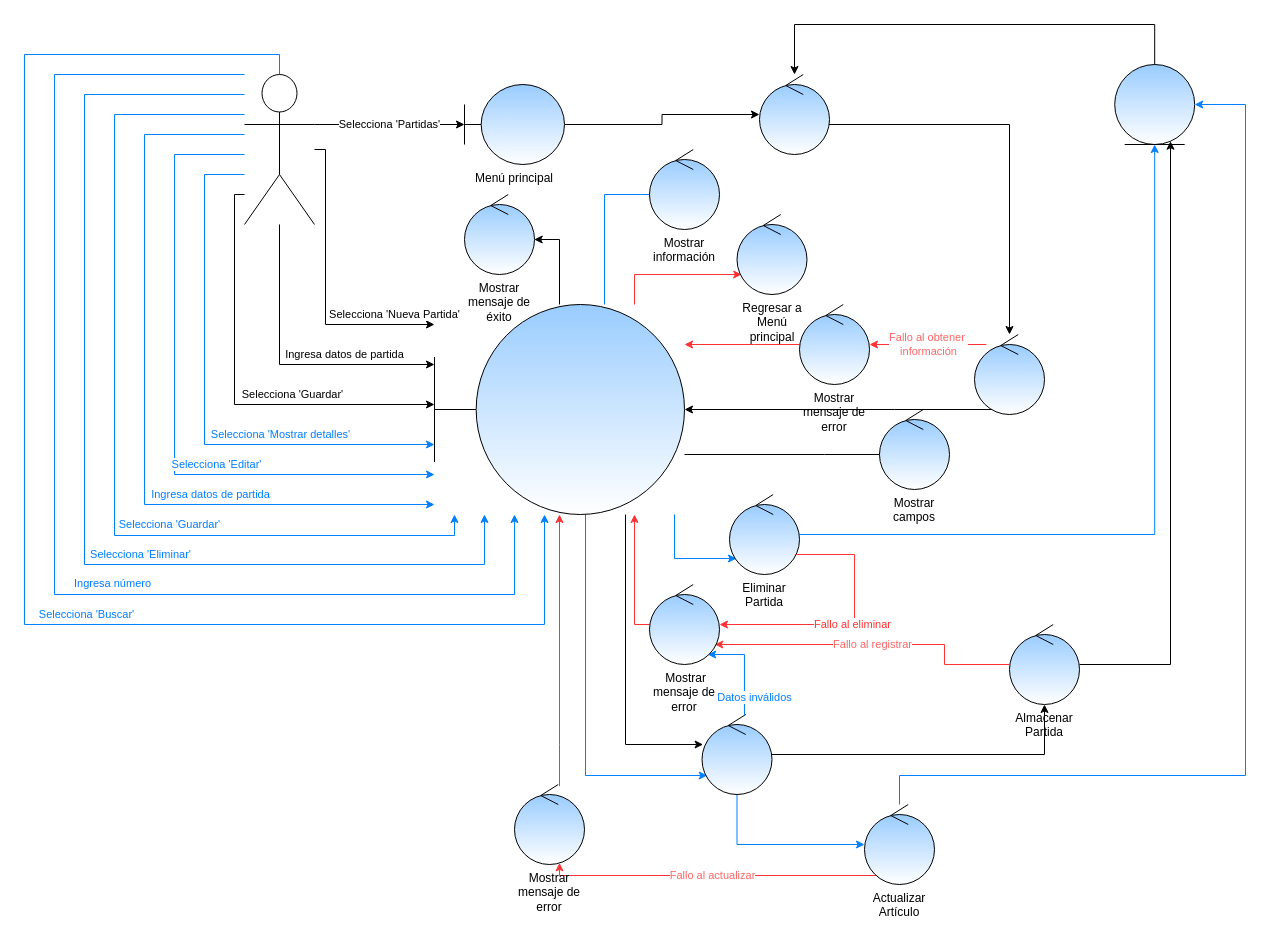
This 1271x938 diagram has some shape labels left out. Here are the shapes that lost their labels. From the top down, the box of each, then its label:
(758, 74, 830, 154): Obtener partidas
(1114, 64, 1195, 144): Partida
(244, 74, 314, 224): Asistente de almacén
(974, 334, 1044, 414): Desplegar
(434, 304, 684, 514): Catálogo de Partidas
(701, 714, 772, 794): Validar Datos
